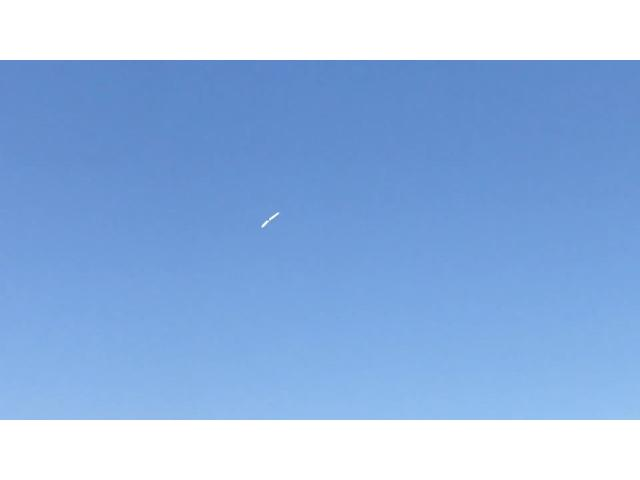Anti-Drone: (252, 202, 288, 234)
